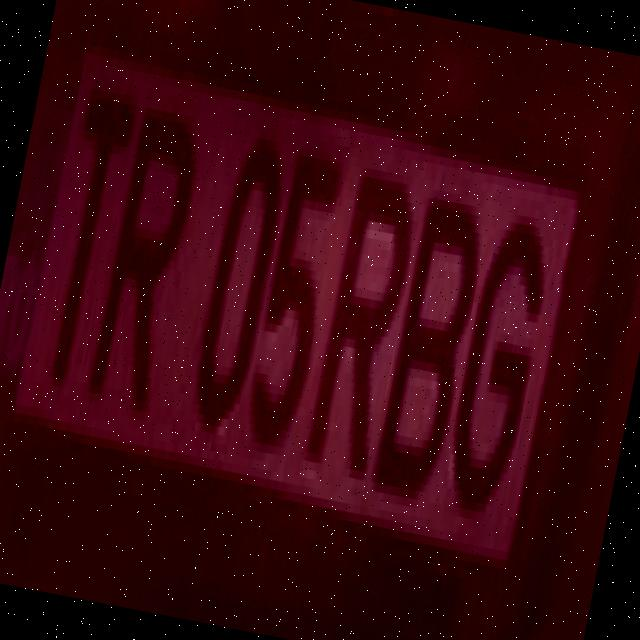EU: (0, 39, 582, 565)
Romanie: (0, 35, 90, 409)
